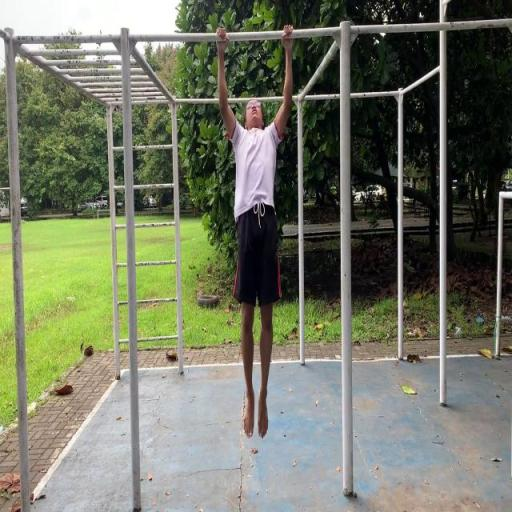Normal_BrenchPress: (215, 24, 296, 440)
